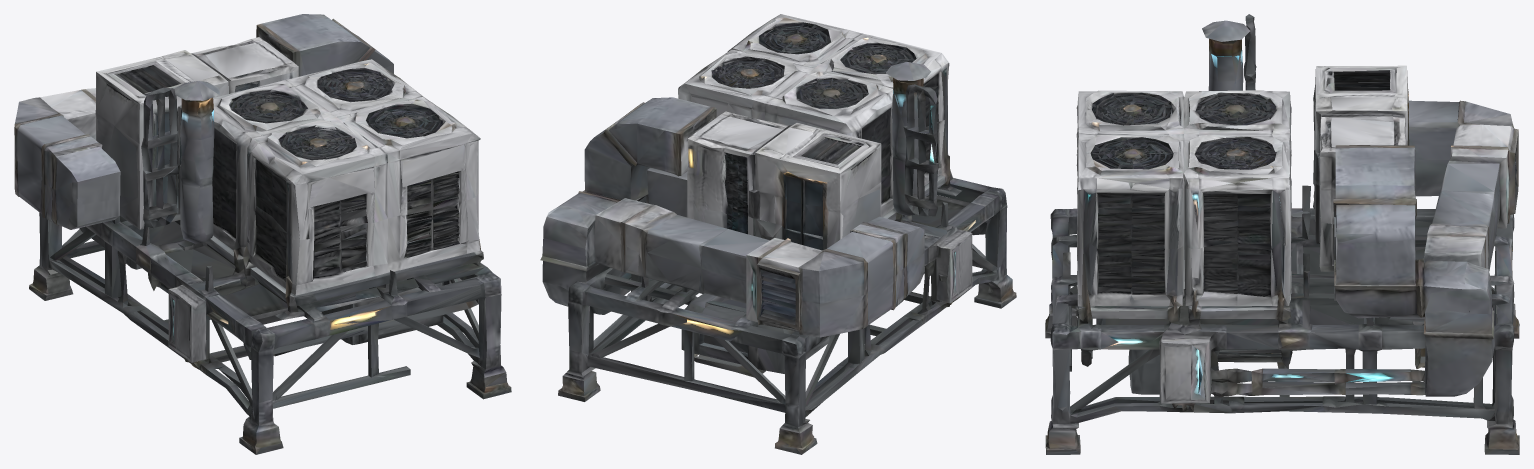
File: ac_cluster.glb
The picture shows the model from 3 angles, left to right: view 1: azimuth 30°, elevation 25°; view 2: azimuth 150°, elevation 25°; view 3: azimuth 270°, elevation 25°; orthographic projection. The views are drawn at different scales.
Parts seen in each view (by area): view 1: ac_cluster; view 2: ac_cluster; view 3: ac_cluster.
Part boxes in pixels (left/top/right/bottom): ac_cluster: left=14, top=14, right=511, bottom=454; ac_cluster: left=540, top=14, right=1016, bottom=454; ac_cluster: left=1045, top=14, right=1519, bottom=454.
Size of the model in its own units: 5.03 by 4.42 by 5.98.
1 material, 1 textured.
